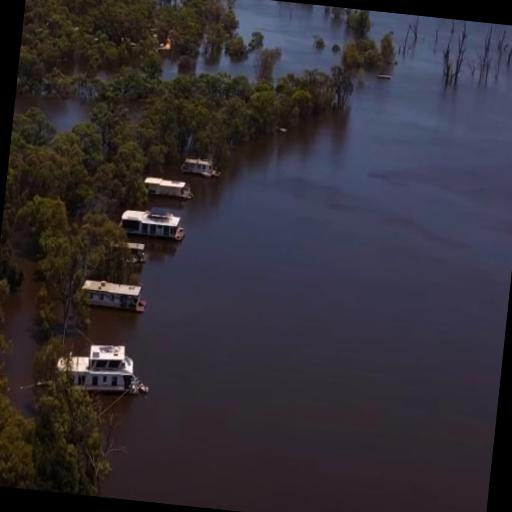flood: (68, 16, 512, 512), (2, 232, 63, 417), (233, 0, 350, 78), (13, 95, 93, 130), (196, 50, 259, 79), (57, 321, 89, 356), (162, 58, 177, 79)
house: (50, 334, 142, 404), (114, 202, 186, 248), (75, 274, 144, 316), (141, 172, 190, 203), (175, 156, 219, 180)
